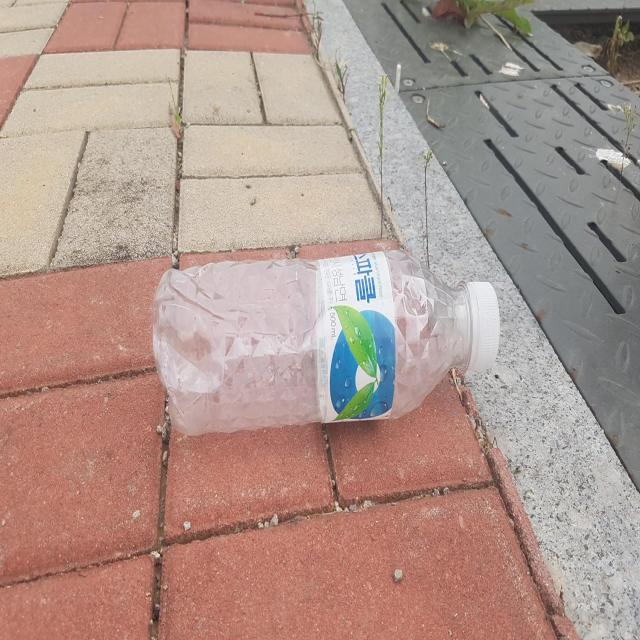plastic: (153, 249, 500, 435)
